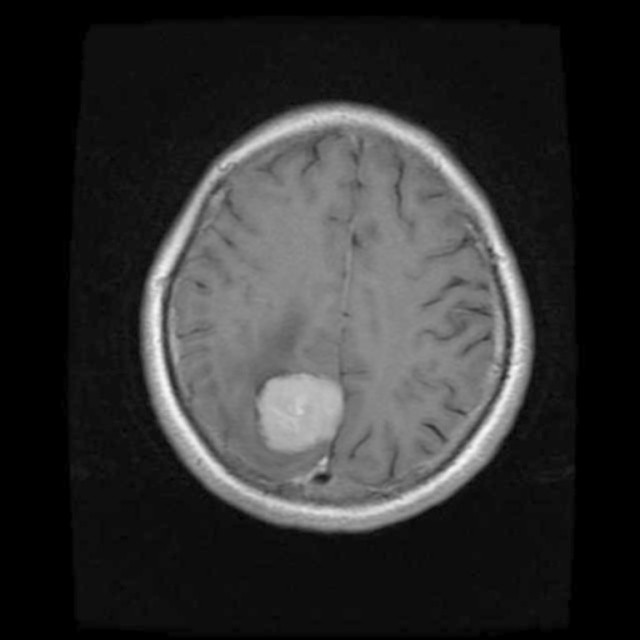meningioma tumor: (241, 347, 360, 465)
